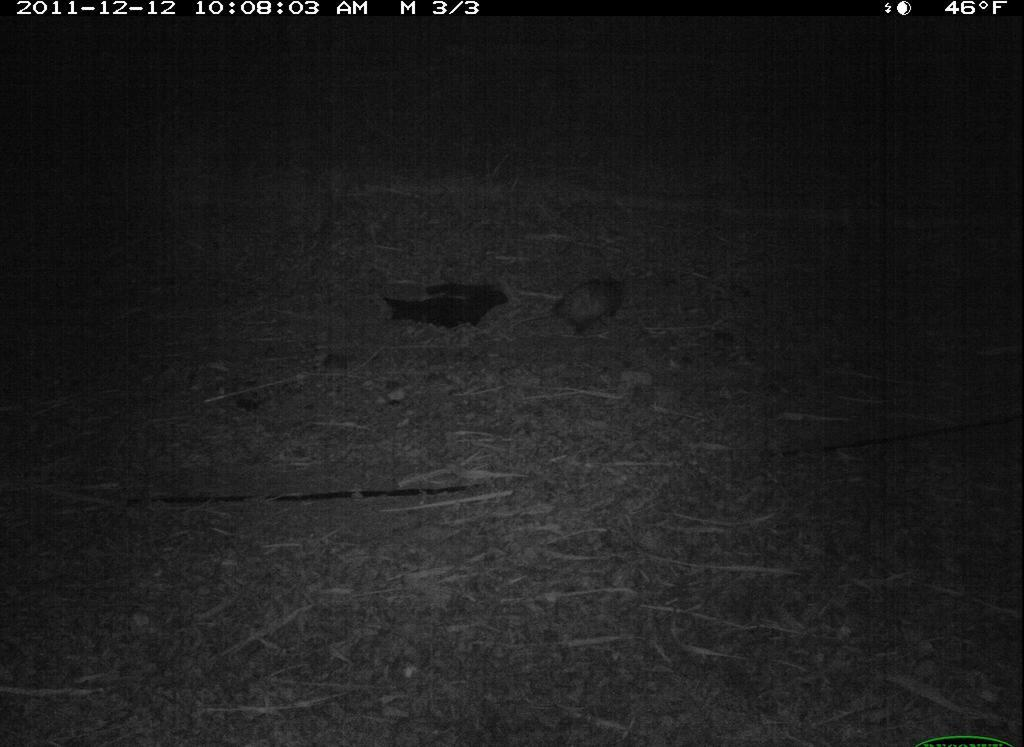opossum: (506, 265, 653, 344)
